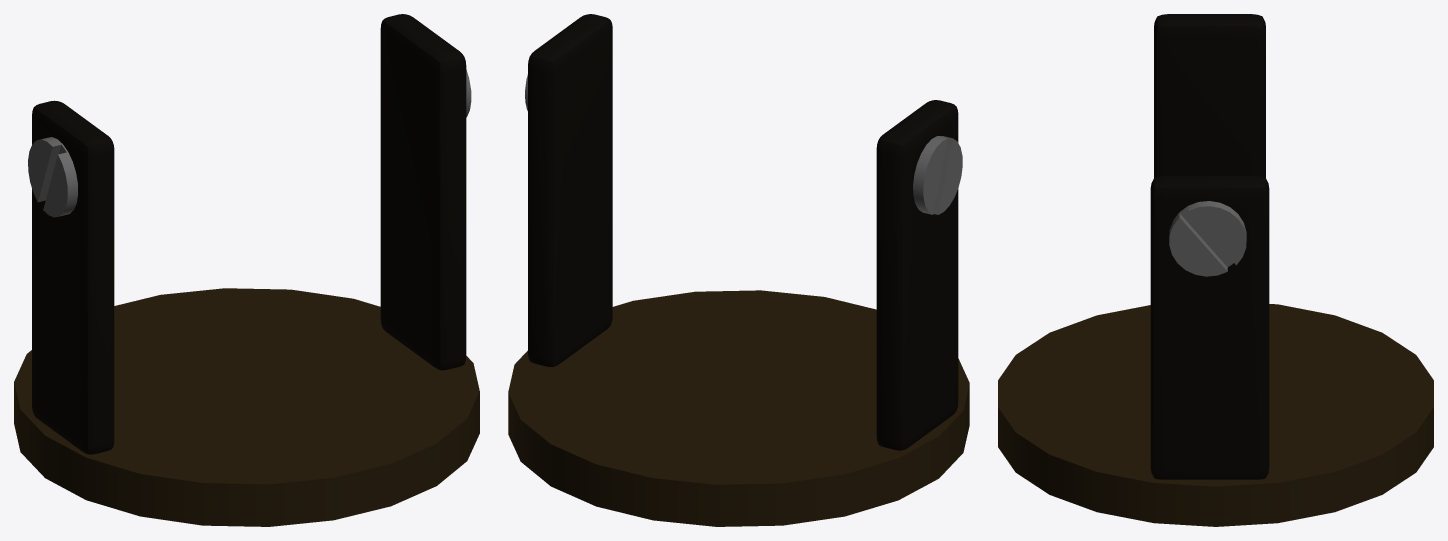
File: BaseCannon.fbx
3 renders of one model, left to right at view 1: azimuth 30°, elevation 25°; view 2: azimuth 150°, elevation 25°; view 3: azimuth 270°, elevation 25°, orthographic. The views are drawn at different scales.
Visible parts, largest first — view 1: Cylinder002; view 2: Cylinder002; view 3: Cylinder002.
Boxes of the visible parts, x1,y1,x2,y2 form: Cylinder002: (14, 14, 479, 526); Cylinder002: (508, 14, 969, 526); Cylinder002: (998, 14, 1433, 526).
Bounding box in the file's own units: 18.45 × 15.43 × 18.23.
